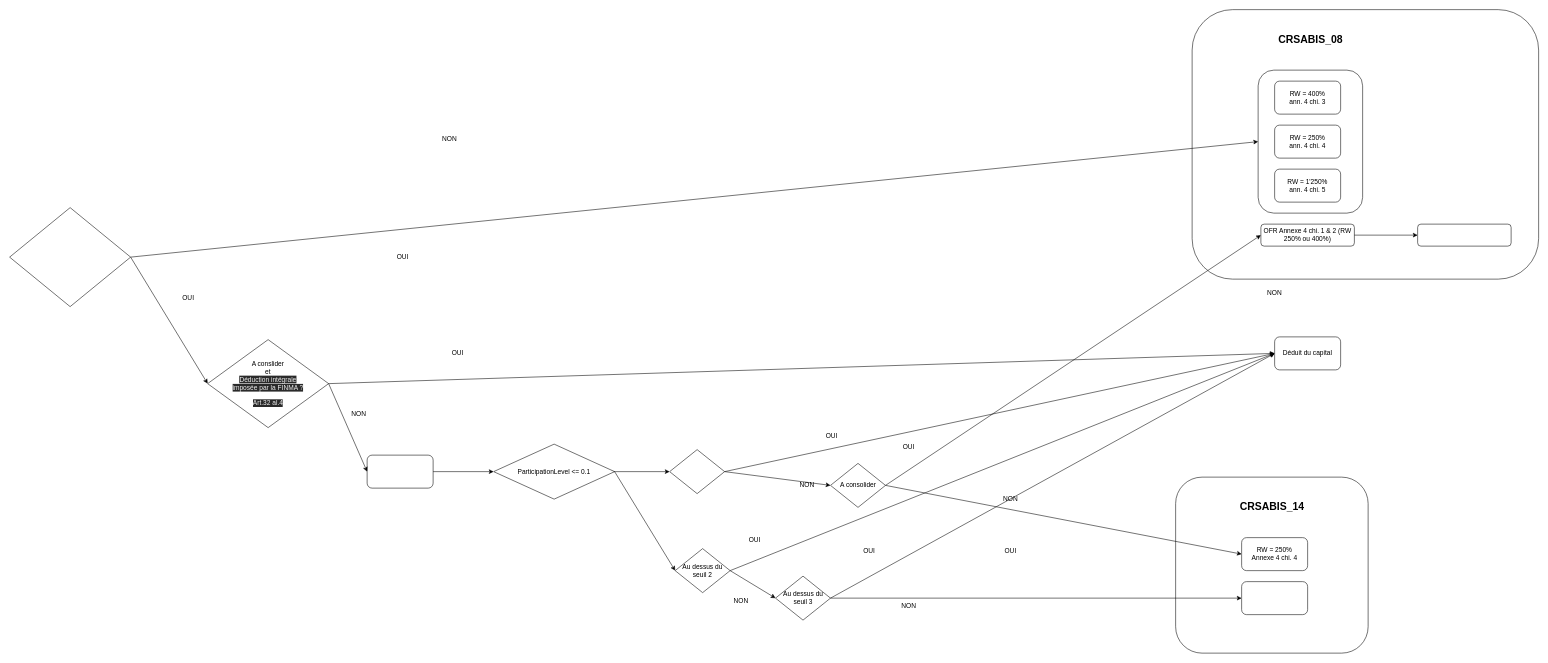
This 1548x663 diagram has some shape labels left out. Here are the shapes that lost their labels. From the top down, the centre of each, then its label:
At (1464,235): "Of which at lines 44 and 46".
At (70,257): "Participation secteur financier ParticipationLevel > 0".
At (400,471): "Déduction par seuils".
At (697,471): "Au dessus du 1er seuil".
At (1274,598): "RW = 250% art. 40 al.2 Annexe 3 chi. 6.5".
